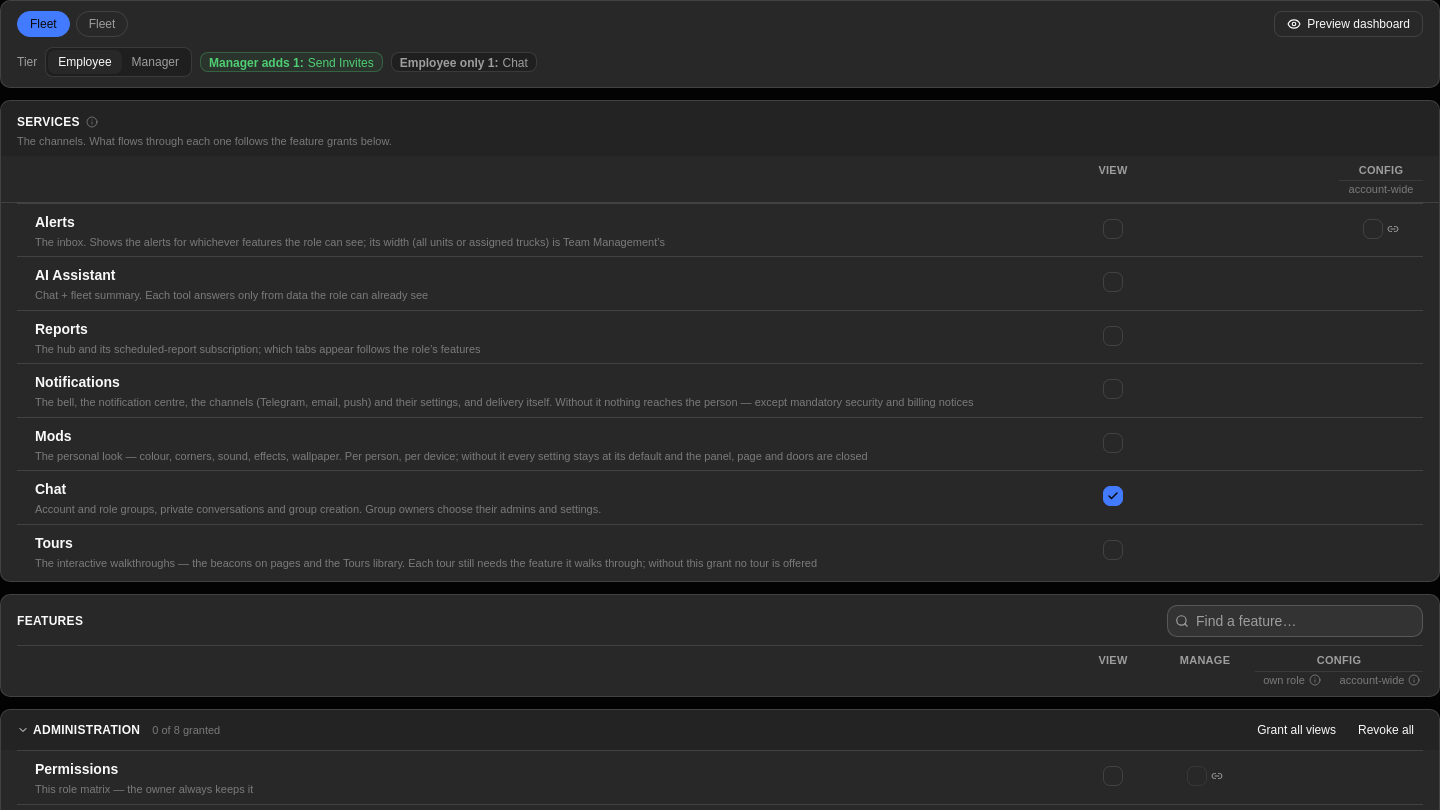
Scenario: Permissions role/tier preview › does not describe a base-only Chat grant as something the Manager adds
This screenshot has width=1440, height=810.
Expected: the button named "Chat — view: granted" is shown, [1101,484,1125,508]
Click the button "Manager": (155, 62) [122,50,189,74]
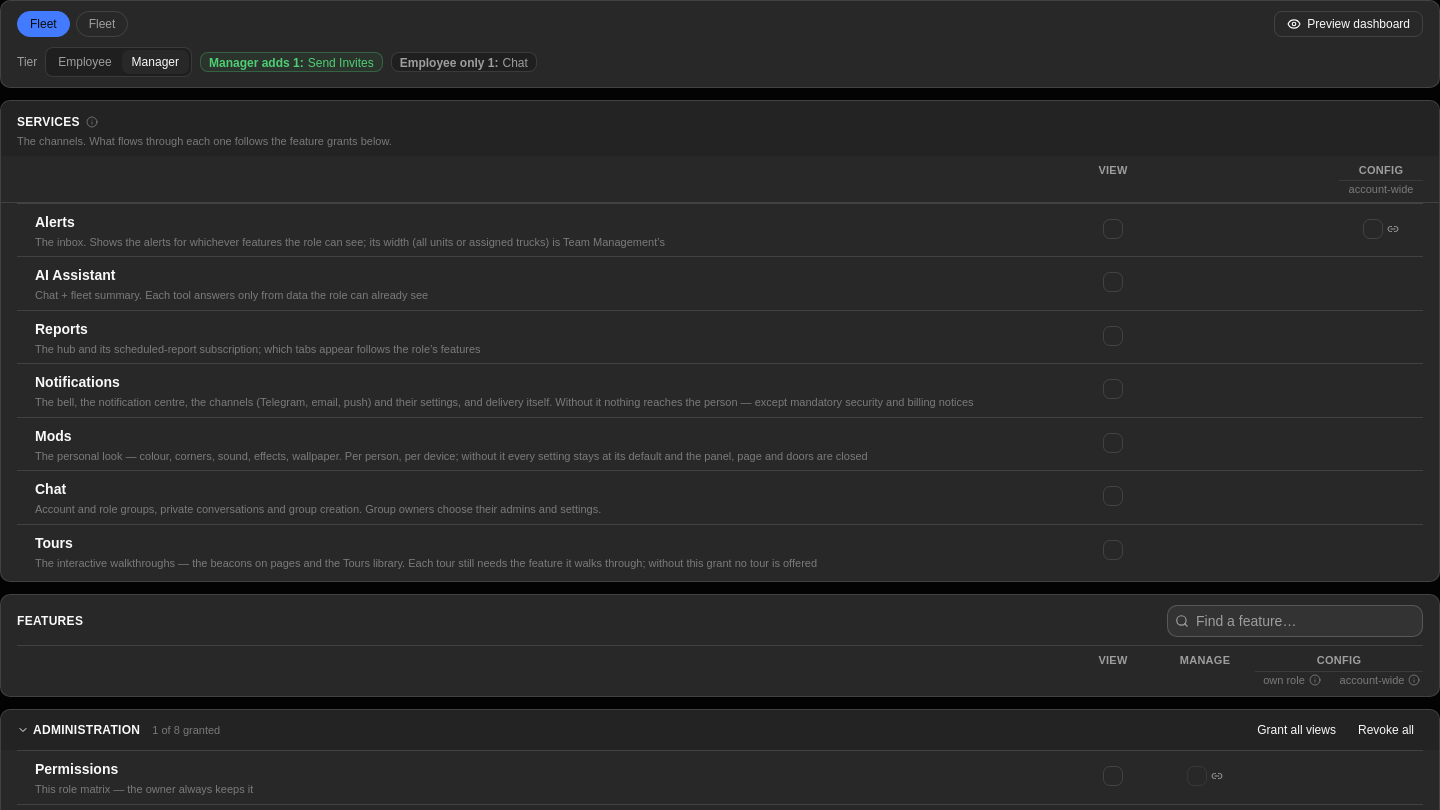
Result: the button named "Chat — view: no access" is shown at [1101,484,1125,508]
